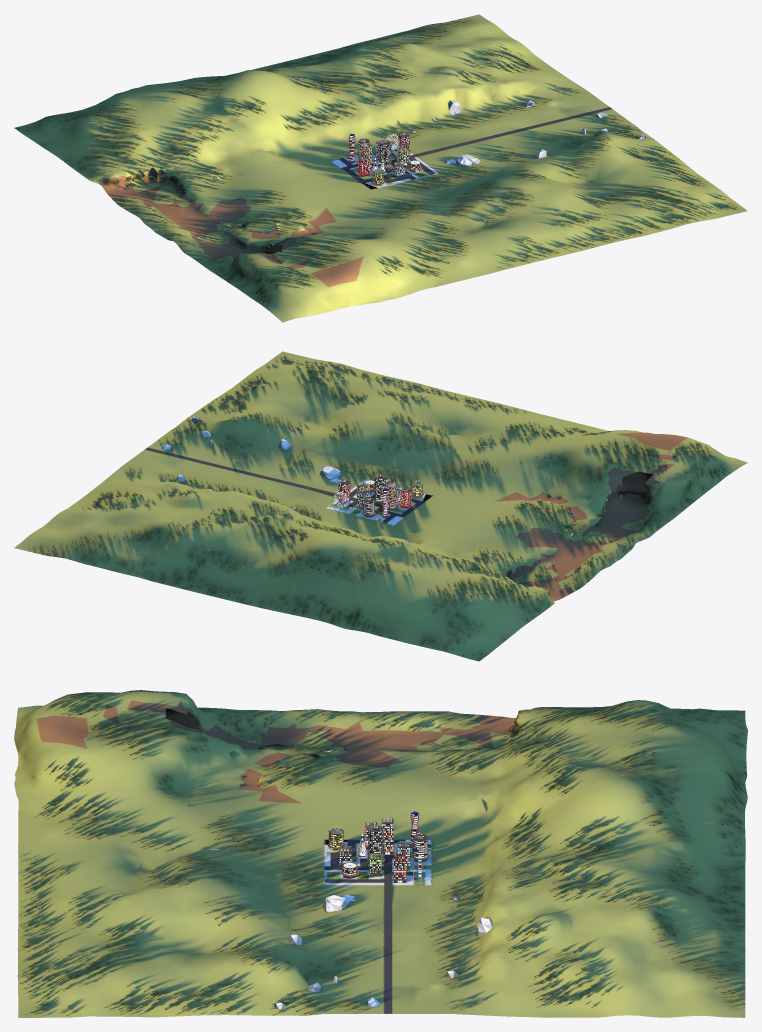
Rendered from isometric-cityscape4.glb.
3 renders of one model, top to bottom at view 1: azimuth 30°, elevation 25°; view 2: azimuth 150°, elevation 25°; view 3: azimuth 270°, elevation 25°, orthographic. The views are drawn at different scales.
Parts seen in each view (by area): view 1: Vegetation, CityBase.001; view 2: Vegetation, CityBase.001; view 3: Vegetation, CityBase.001.
Part boxes in pixels (left/top/right/bottom): Vegetation: left=14, top=14, right=747, bottom=322; CityBase.001: left=339, top=100, right=646, bottom=183; Vegetation: left=14, top=351, right=747, bottom=661; CityBase.001: left=145, top=416, right=424, bottom=522; Vegetation: left=14, top=690, right=747, bottom=1017; CityBase.001: left=274, top=839, right=492, bottom=1013.
Bounding box in the file's own units: 67.37 × 6.37 × 67.58.
33 materials, 8 textured.
